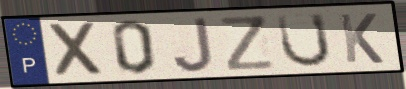0: (110, 18, 160, 77)
J: (171, 15, 216, 74)
K: (336, 12, 386, 65)
U: (274, 11, 334, 70)
X: (46, 19, 107, 80)
Z: (217, 14, 278, 73)
